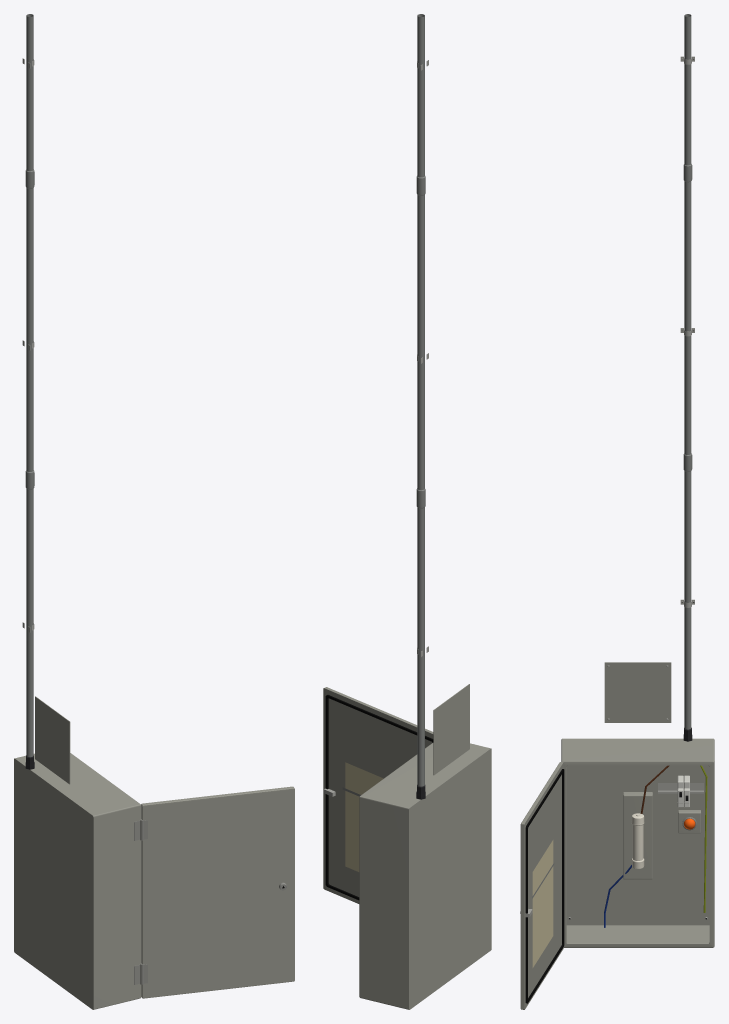
Rendered from item_fusebox.glb.
The picture shows the model from 3 angles, left to right: view 1: azimuth 30°, elevation 25°; view 2: azimuth 150°, elevation 25°; view 3: azimuth 270°, elevation 25°; orthographic projection. The views are drawn at different scales.
Parts seen in each view (by area): view 1: sicherungskasten; view 2: sicherungskasten; view 3: sicherungskasten.
Part boxes in pixels (x1,y1,x2,y2): sicherungskasten: (14, 14, 294, 1009); sicherungskasten: (323, 14, 491, 1009); sicherungskasten: (520, 14, 714, 1009).
Size of the model in its own units: 0.6129 by 3.05 by 0.5834.
